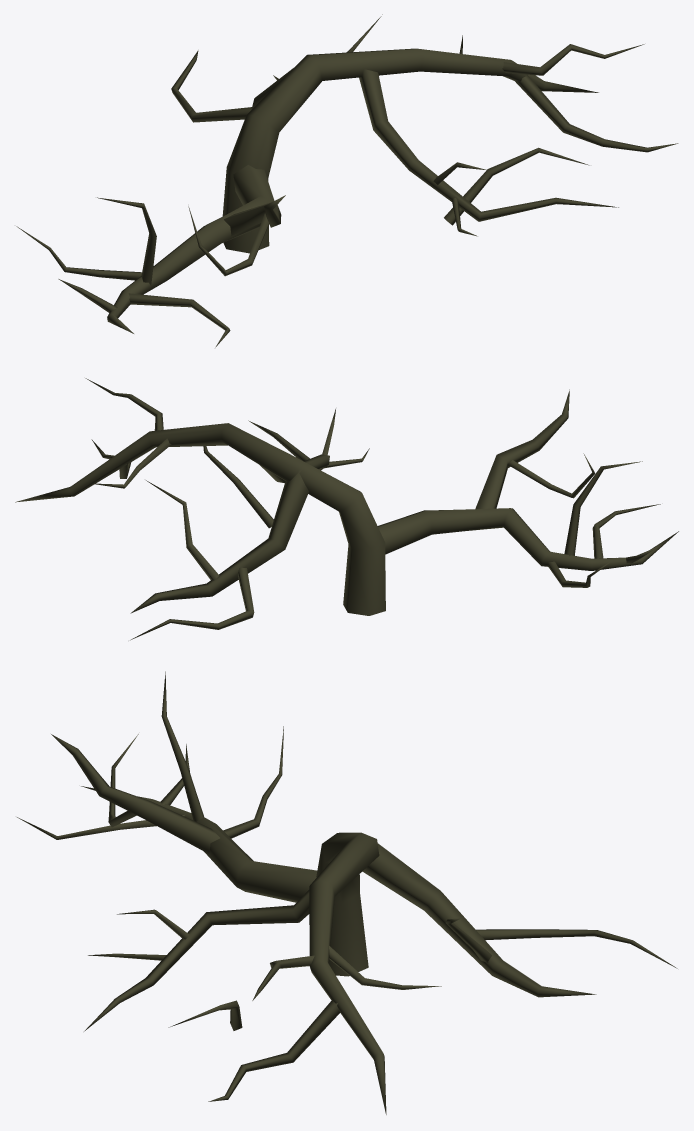
Rendered from SM_DesertTwigRoots03.fbx.
3 views of the same model, one above another, from view 1: azimuth 30°, elevation 25°; view 2: azimuth 150°, elevation 25°; view 3: azimuth 270°, elevation 25° (orthographic). The views are drawn at different scales.
Visible parts, largest first — view 1: SM_DesertTwigRoots03; view 2: SM_DesertTwigRoots03; view 3: SM_DesertTwigRoots03.
Part boxes in pixels (bbox=[...]): SM_DesertTwigRoots03: bbox=[16, 14, 678, 347]; SM_DesertTwigRoots03: bbox=[15, 378, 678, 640]; SM_DesertTwigRoots03: bbox=[17, 671, 677, 1114].
Bounding box in the file's own units: 267 × 68.75 × 226.
